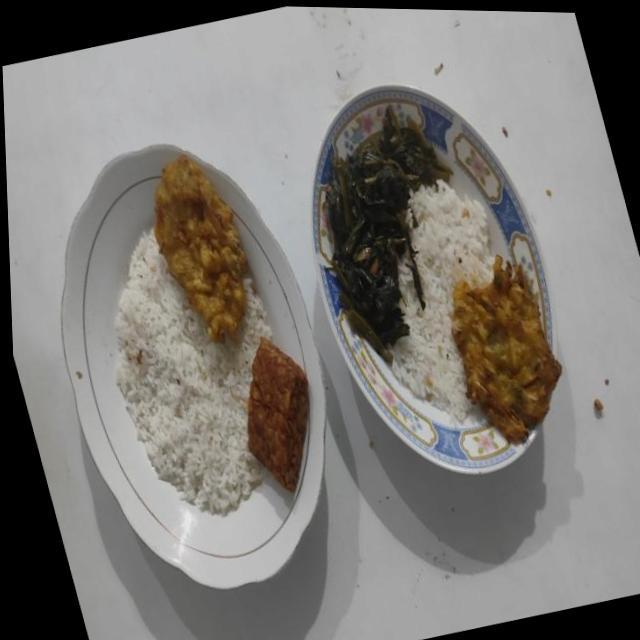nasi_putih: (116, 230, 272, 515), (389, 180, 494, 420)
tempe_goreng: (247, 336, 309, 491)
tumis_kangkung: (323, 105, 452, 363)
